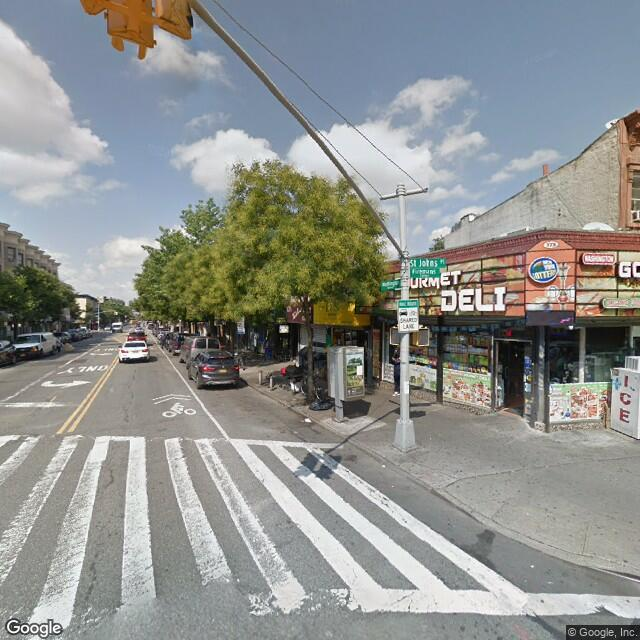litter: (528, 560, 552, 573), (298, 413, 316, 427), (375, 459, 393, 472)
